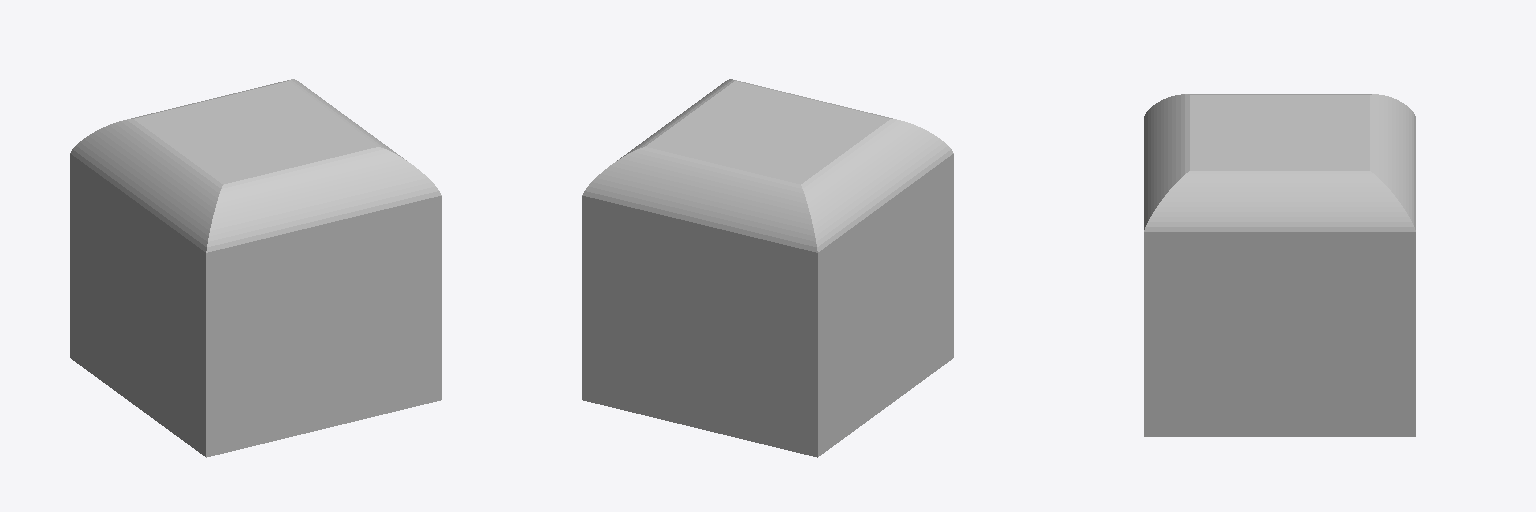
File: Ground.obj
The picture shows the model from 3 angles: view 1: azimuth 30°, elevation 25°; view 2: azimuth 150°, elevation 25°; view 3: azimuth 270°, elevation 25°; orthographic projection.
Parts seen in each view (by area): view 1: Cube; view 2: Cube; view 3: Cube.
Boxes of the visible parts, box(x1,y1,x2,y2) form: Cube: box(70, 79, 441, 457); Cube: box(582, 79, 953, 457); Cube: box(1144, 94, 1415, 436).
Size of the model in its own units: 1 by 1 by 1.